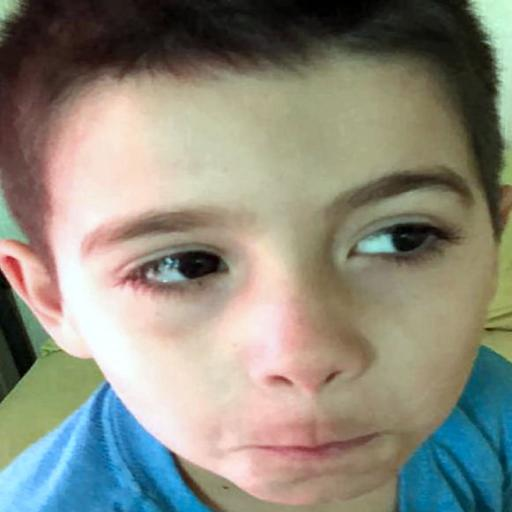Autism: (9, 27, 512, 512)
